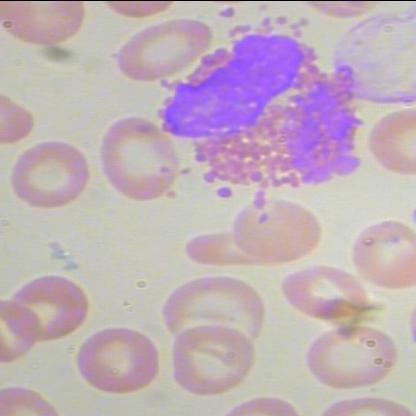RBC: (156, 272, 270, 350), (99, 113, 181, 214), (112, 13, 219, 83), (74, 318, 164, 400), (2, 266, 96, 344), (302, 322, 398, 392), (8, 134, 89, 212), (230, 194, 324, 261), (171, 324, 254, 396), (274, 266, 376, 324), (352, 208, 416, 294), (170, 231, 290, 266)
WBC: (152, 0, 376, 226)
